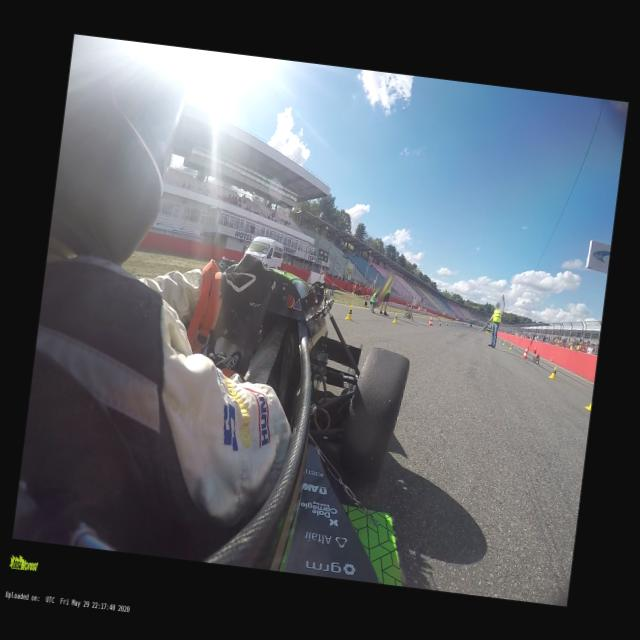blue_cone: (438, 320, 442, 326), (454, 322, 456, 327), (450, 322, 452, 326), (446, 322, 448, 326)
large_orange_cone: (521, 346, 528, 359), (428, 314, 434, 326)
yellow_cone: (344, 304, 354, 320), (548, 364, 557, 378), (392, 312, 398, 322), (508, 344, 512, 349), (502, 340, 506, 345)
